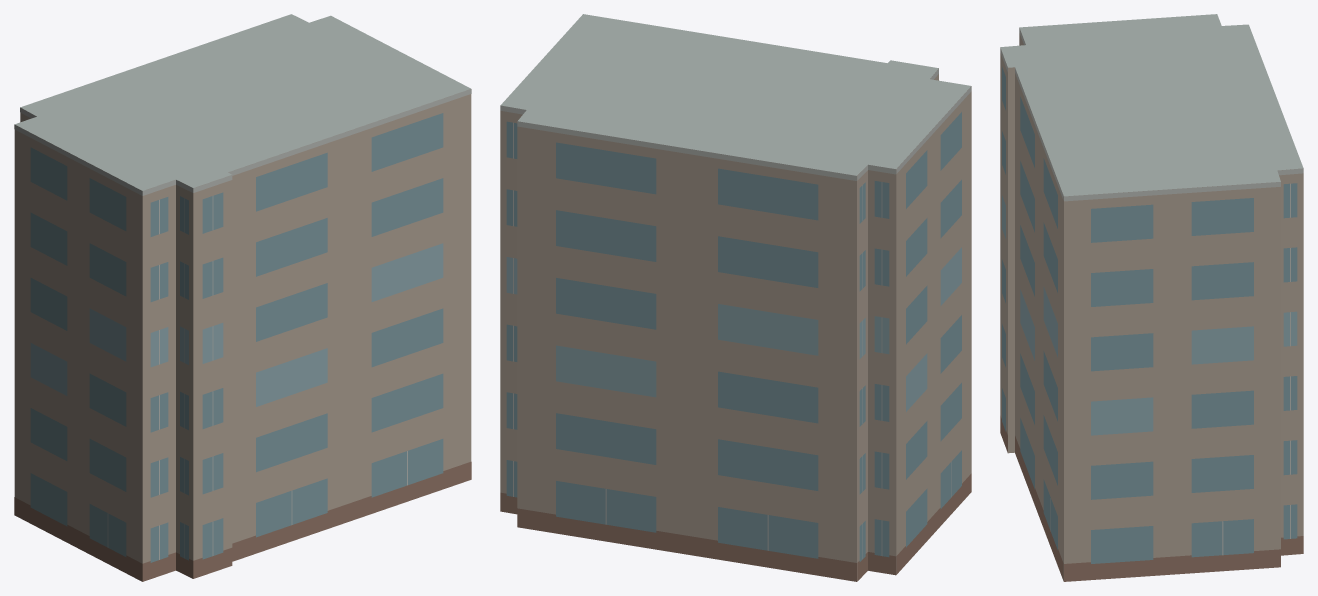
Rendered from survey-upis-32989939.glb.
3 renders of one model, left to right at view 1: azimuth 30°, elevation 25°; view 2: azimuth 150°, elevation 25°; view 3: azimuth 270°, elevation 25°, orthographic. The views are drawn at different scales.
Visible parts, largest first — view 1: survey-upis-32989939.tmp; view 2: survey-upis-32989939.tmp; view 3: survey-upis-32989939.tmp.
Part boxes in pixels (x1,y1,x2,y2): survey-upis-32989939.tmp: (14, 14, 471, 581); survey-upis-32989939.tmp: (500, 14, 971, 581); survey-upis-32989939.tmp: (1000, 14, 1303, 581).
Size of the model in its own units: 19.09 by 18.8 by 13.42.
